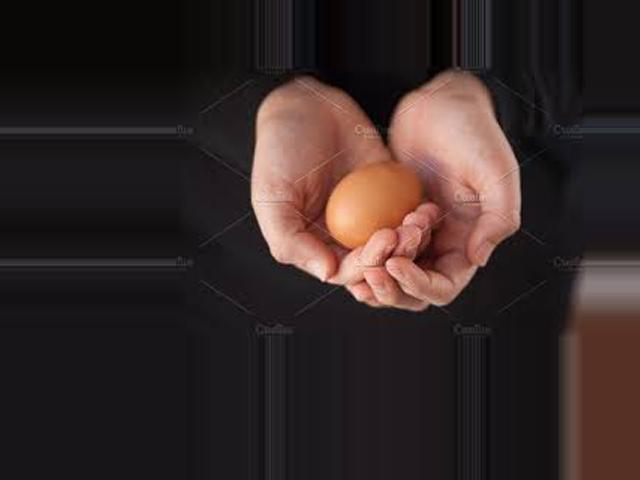egg: (325, 161, 427, 246)
